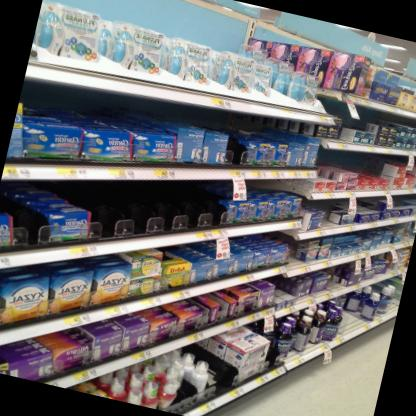empty_space: (137, 187, 231, 232), (91, 193, 179, 239), (89, 203, 127, 245)
